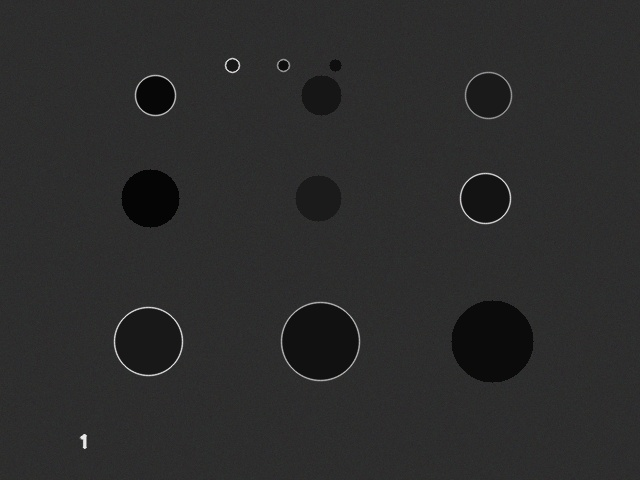hole: (451, 300, 533, 382), (281, 302, 359, 380), (114, 307, 182, 375), (121, 169, 179, 227), (460, 173, 510, 223), (465, 72, 511, 118), (295, 175, 341, 221), (135, 75, 175, 115), (301, 75, 341, 115), (225, 58, 239, 72), (277, 59, 289, 71), (329, 59, 341, 71)
